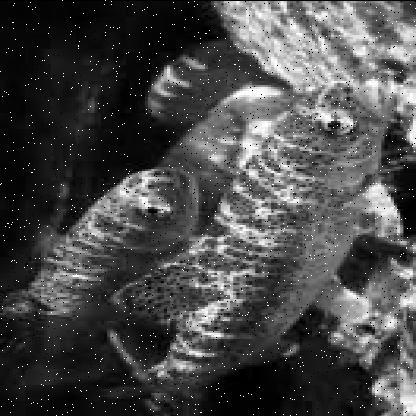fish: (137, 81, 403, 410)
